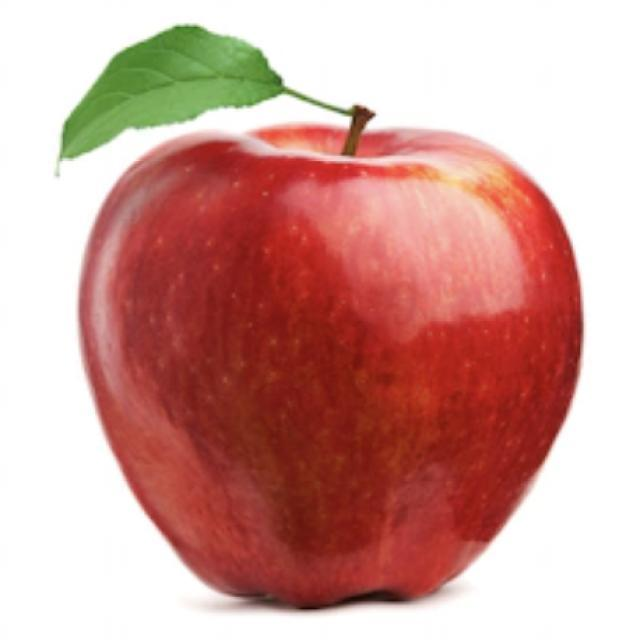Fresh Apple: (90, 104, 578, 628)
